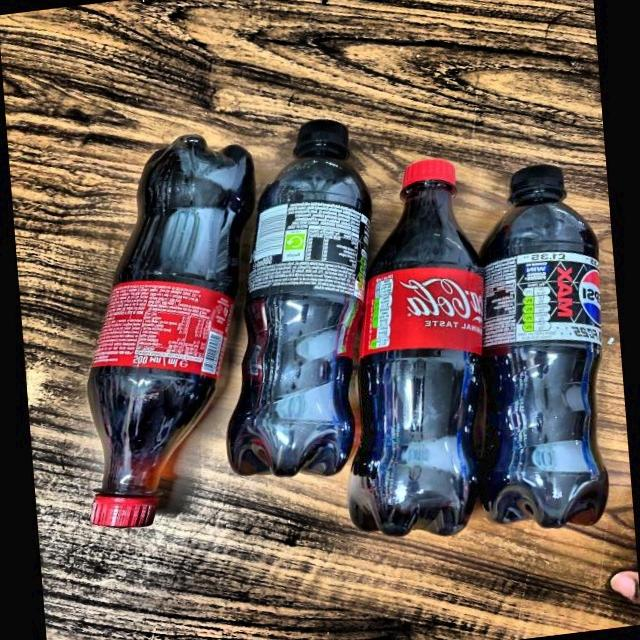coke-bottle: (87, 139, 242, 527), (349, 158, 475, 540)
pepsi-bottle: (219, 124, 373, 486), (480, 166, 614, 529)
